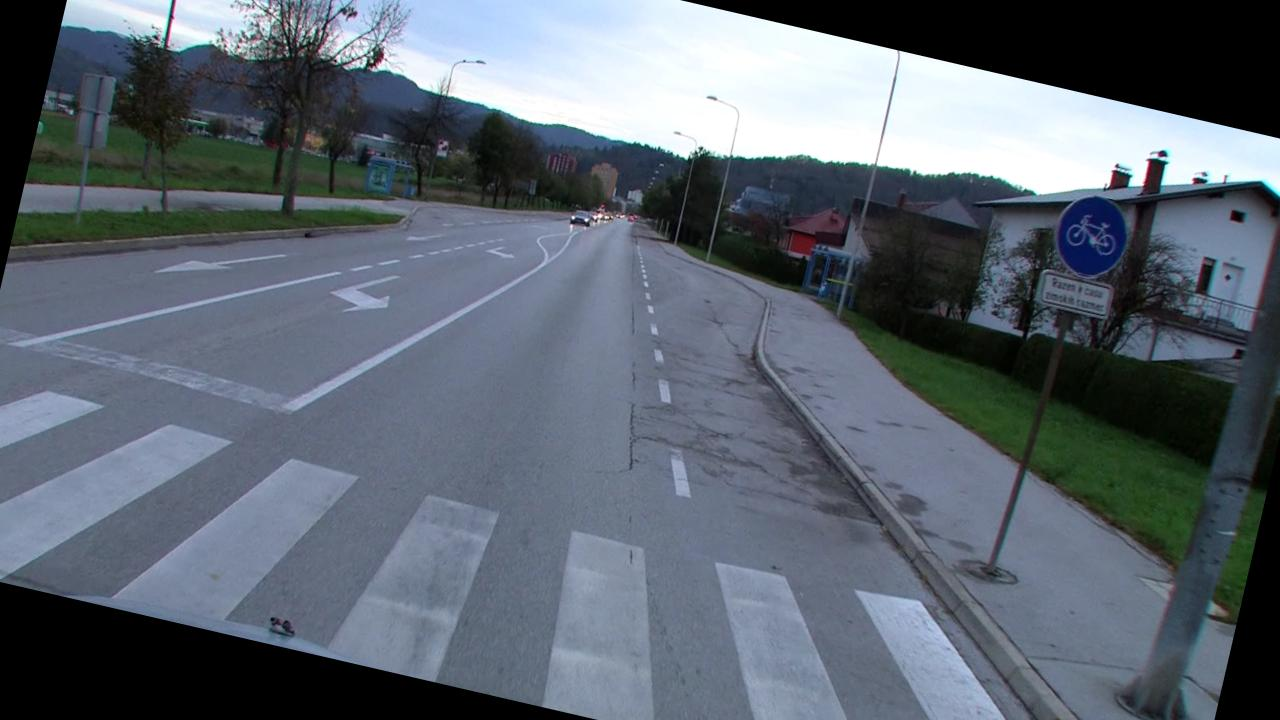Rectangle: (1035, 268, 1115, 320)
Round: (1047, 188, 1136, 284)
